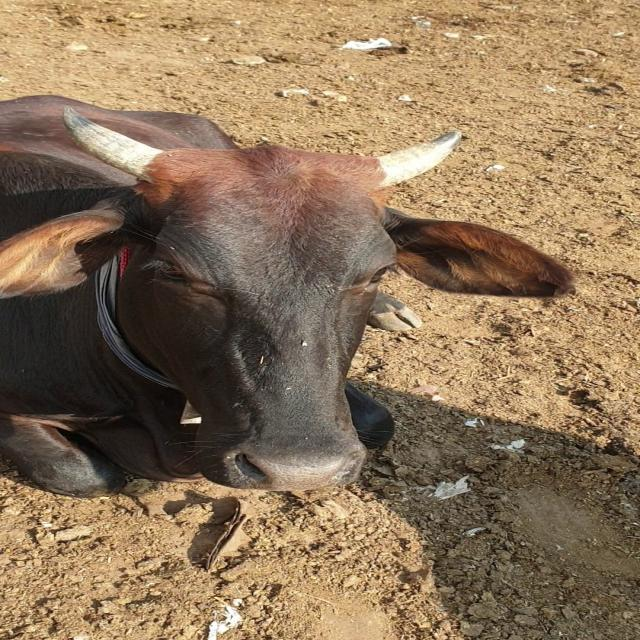cowFace: (124, 137, 438, 501)
